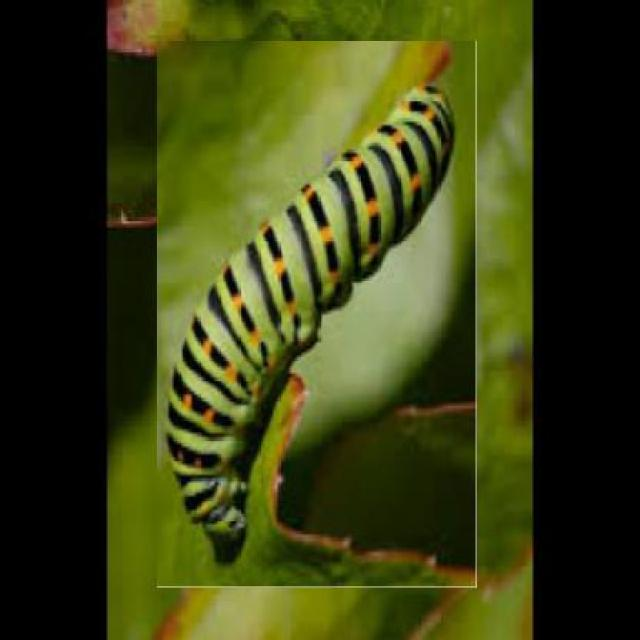Plaga: (156, 40, 478, 589)
